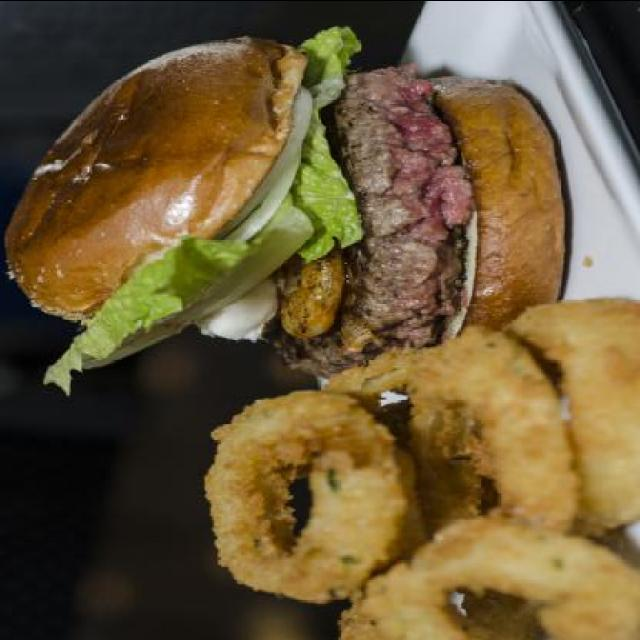Hamburger: (8, 22, 570, 398)
